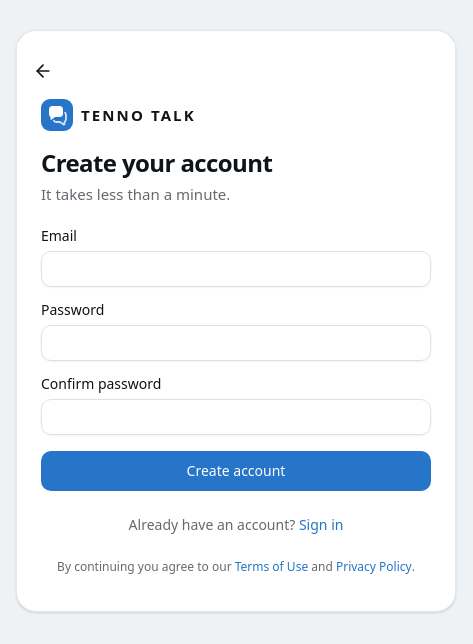
Test: email + password › requires matching passwords
In the field labelled "Email": (236, 269) x1=41 y1=251 x2=431 y2=287, type "maria@example.com"
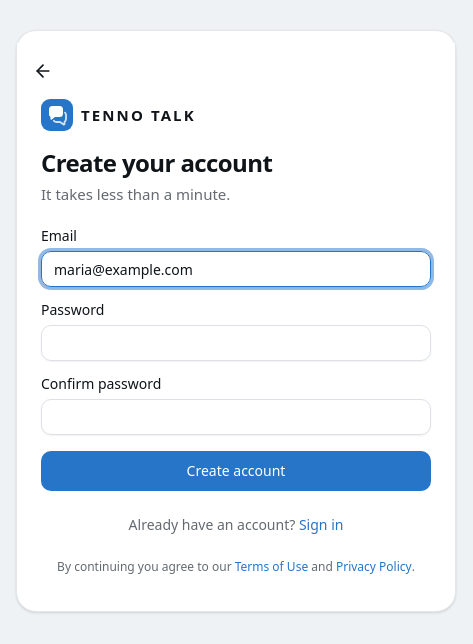
In the password field labelled "Password": (236, 343) x1=41 y1=325 x2=431 y2=361, type "secret123"
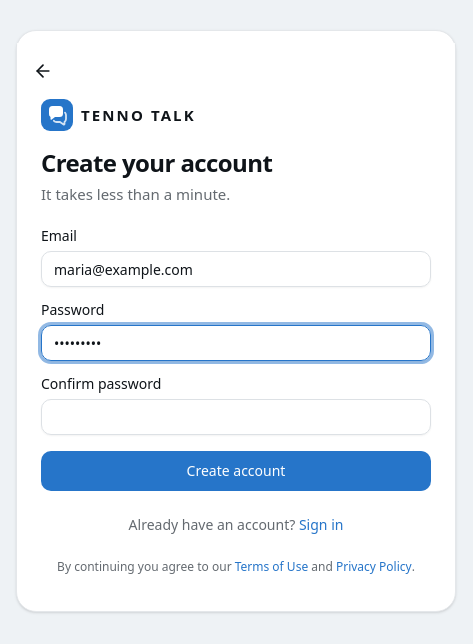
In the password field labelled "Confirm password": (236, 417) x1=41 y1=399 x2=431 y2=435, type "secret999"
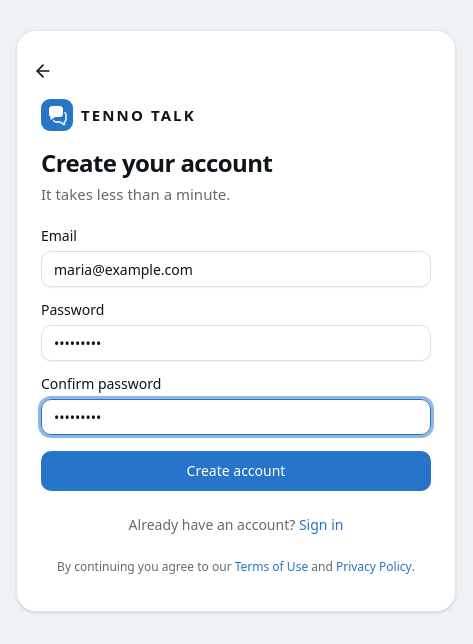
Click the button "Create account": (236, 471) x1=41 y1=451 x2=431 y2=491
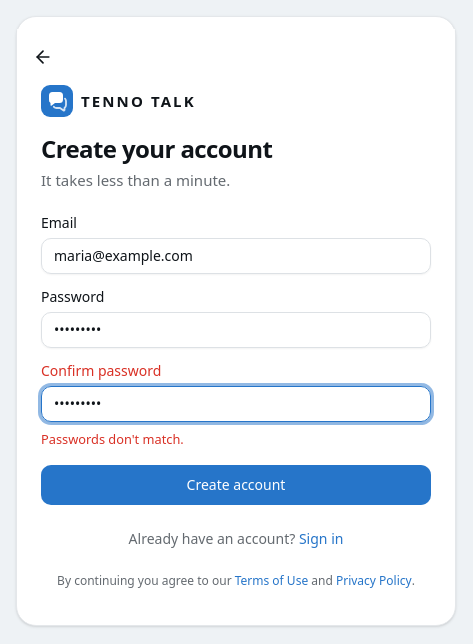
Now the text "Passwords don't match." is shown, box x1=41 y1=430 x2=184 y2=448
